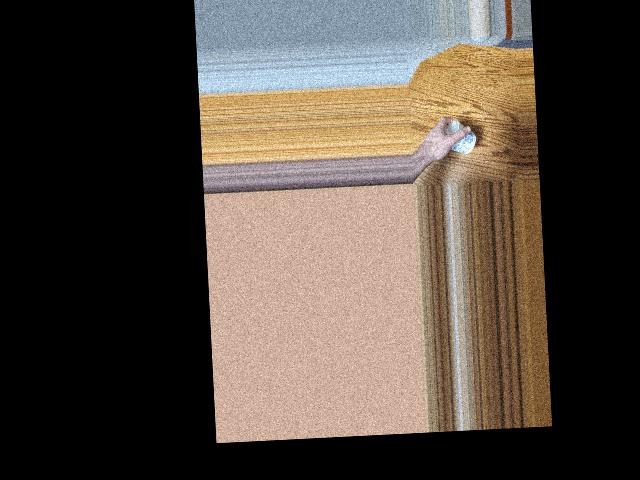cotage: (442, 120, 475, 156)
